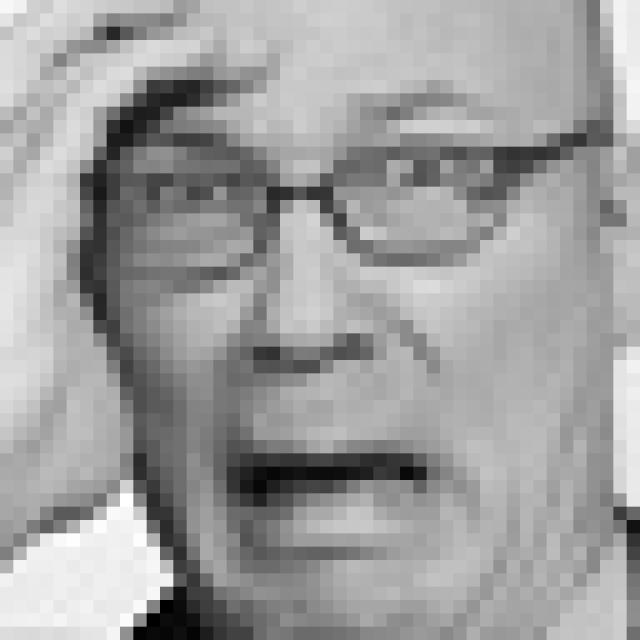fear: (109, 84, 530, 578)
